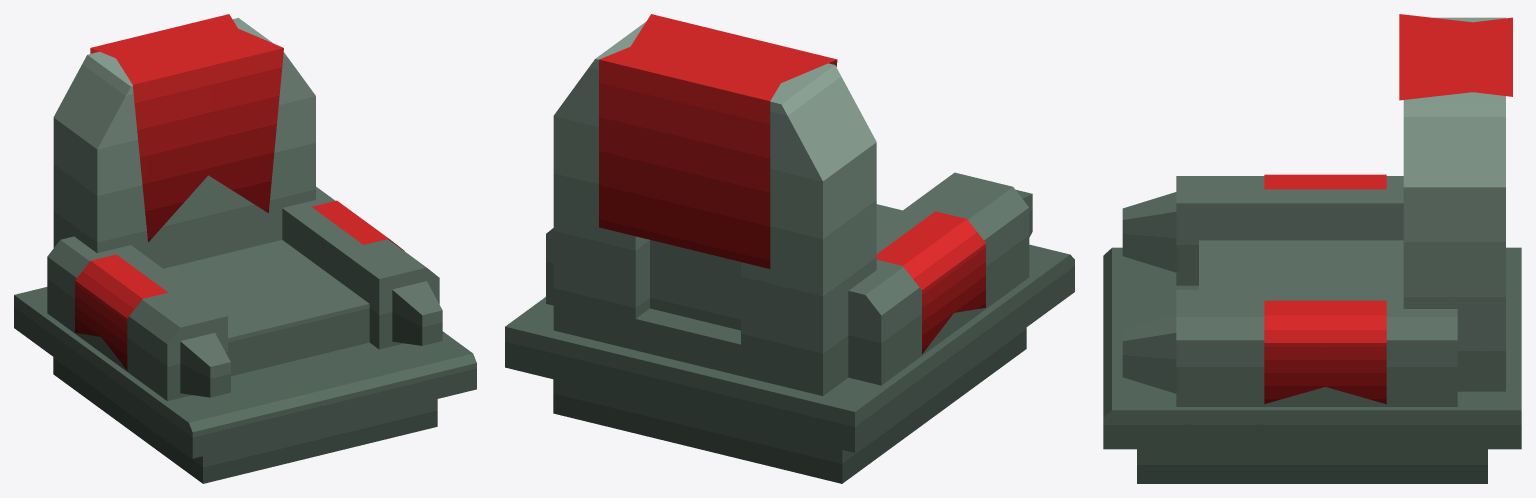
File: throne.fbx
3 renders of one model, left to right at view 1: azimuth 30°, elevation 25°; view 2: azimuth 150°, elevation 25°; view 3: azimuth 270°, elevation 25°, orthographic. The views are drawn at different scales.
Parts seen in each view (by area): view 1: Thronw, Throne Details; view 2: Thronw, Throne Details; view 3: Thronw, Throne Details.
Boxes of the visible parts, left/top/right/bottom form: Thronw: left=14, top=14, right=476, bottom=483; Throne Details: left=75, top=200, right=404, bottom=370; Thronw: left=505, top=14, right=1074, bottom=483; Throne Details: left=876, top=211, right=985, bottom=353; Thronw: left=1103, top=14, right=1521, bottom=483; Throne Details: left=1264, top=174, right=1386, bottom=404.
Bounding box in the file's own units: 376 × 388 × 409.
